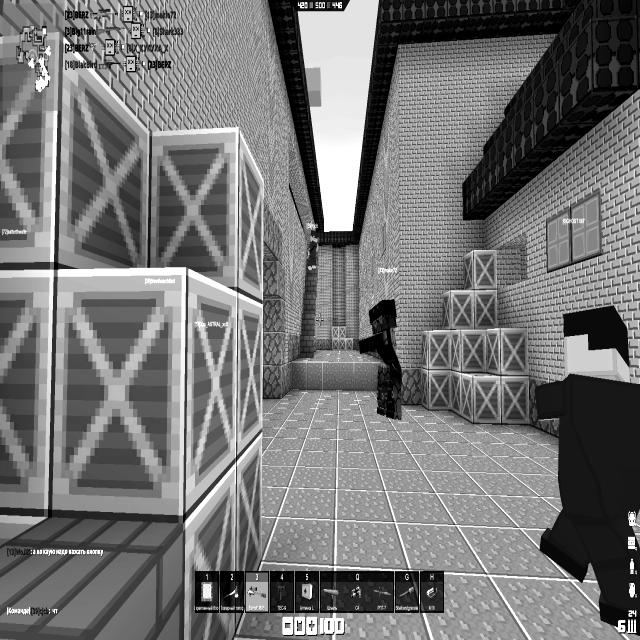Head: (563, 304, 632, 387), (369, 299, 397, 333), (310, 230, 318, 243)
Player: (533, 303, 640, 632), (358, 298, 404, 421), (306, 230, 318, 270)
